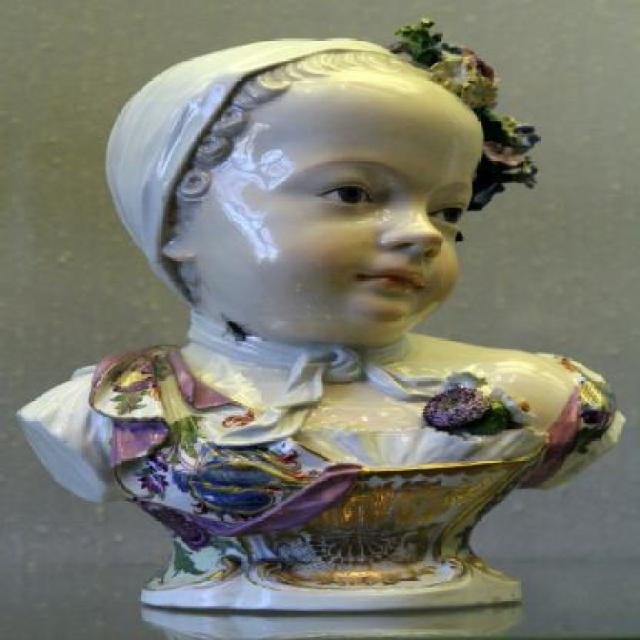Person: (17, 17, 626, 614)
